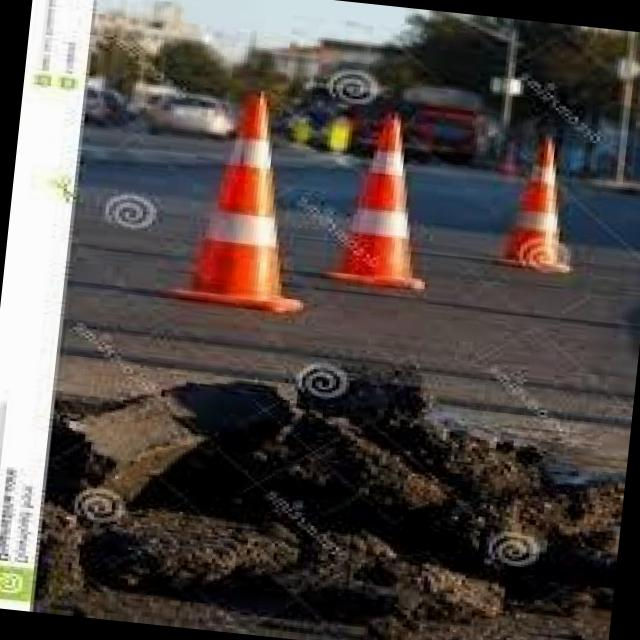Cone: (164, 85, 321, 314), (316, 102, 442, 294), (484, 130, 576, 275)
